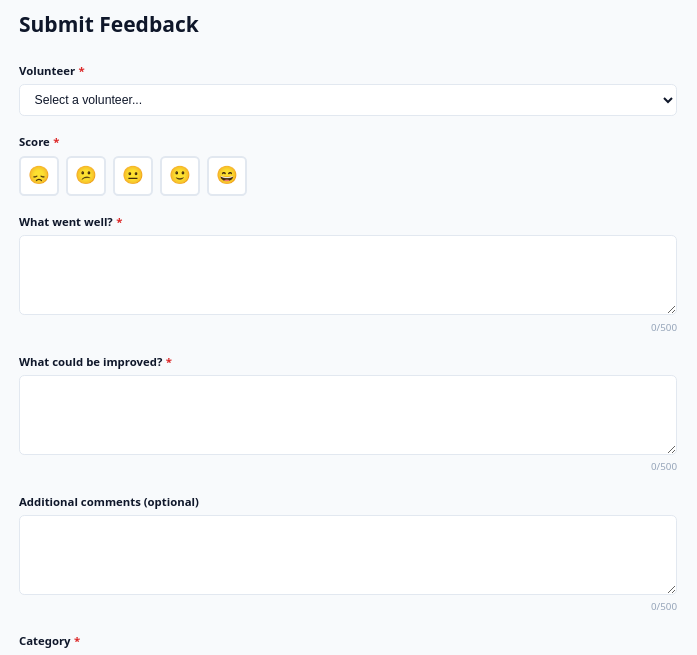
Scenario: FeedbackContent › Form validation on blur (valid and invalid inputs) › shows validation error for textAnswer1 when left empty after blur
Click the text box labelled "What went well?*". click: (348, 275)
box: [19,235,677,315]
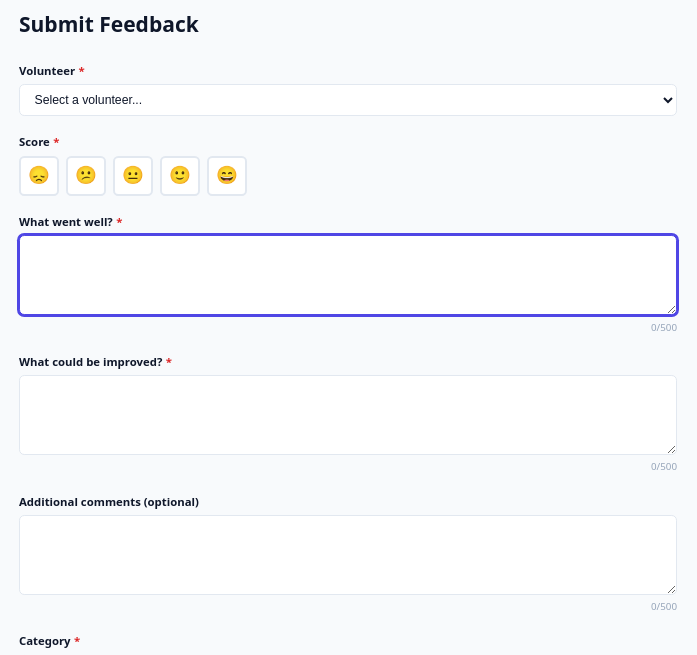
Press Tab
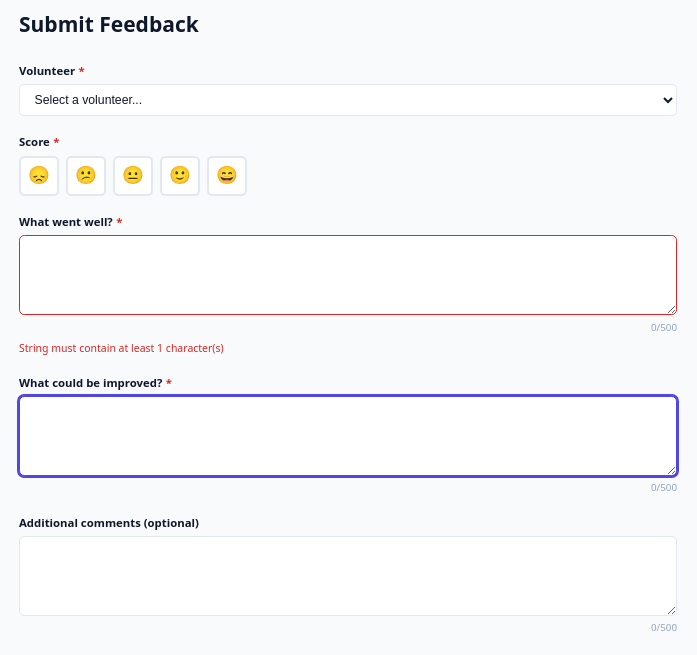
Expected: the text "String must contain at least 1 character(s)" is shown, [19,341,224,355]
